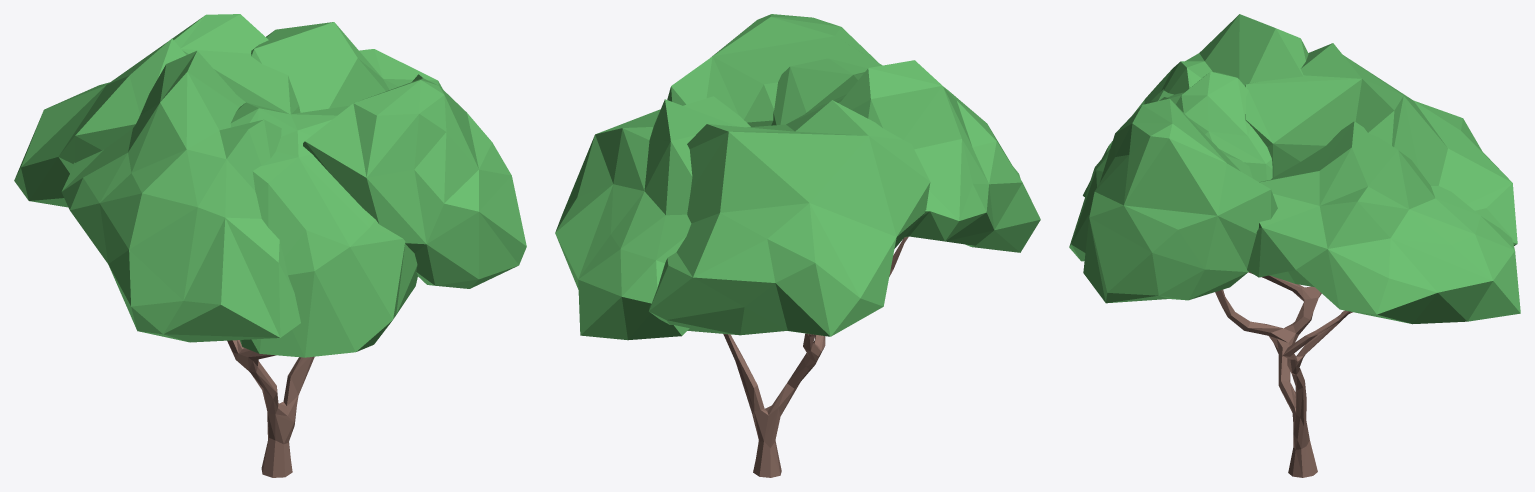
The model's file is Tree_005.glb.
3 renders of one model, left to right at view 1: azimuth 30°, elevation 25°; view 2: azimuth 150°, elevation 25°; view 3: azimuth 270°, elevation 25°, orthographic. The views are drawn at different scales.
Parts seen in each view (by area): view 1: Tree_005; view 2: Tree_005; view 3: Tree_005.
Boxes of the visible parts, box(x1,y1,x2,y2) form: Tree_005: box(14, 14, 526, 477); Tree_005: box(555, 14, 1040, 477); Tree_005: box(1069, 14, 1520, 477).
Size of the model in its own units: 11.29 by 12.05 by 12.19.
Materials: 1 (1 with a texture image).
